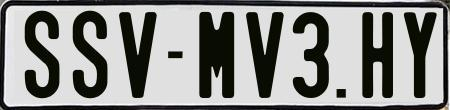3: (291, 10, 332, 102)
H: (360, 11, 396, 98)
M: (198, 9, 239, 101)
S: (23, 11, 59, 98), (72, 8, 107, 97)
V: (116, 12, 159, 102), (243, 9, 282, 97)
Y: (401, 12, 431, 102)
